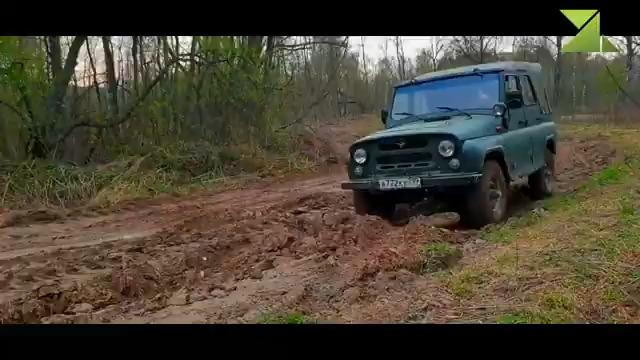MIL_HMMWV: (341, 60, 558, 225)
